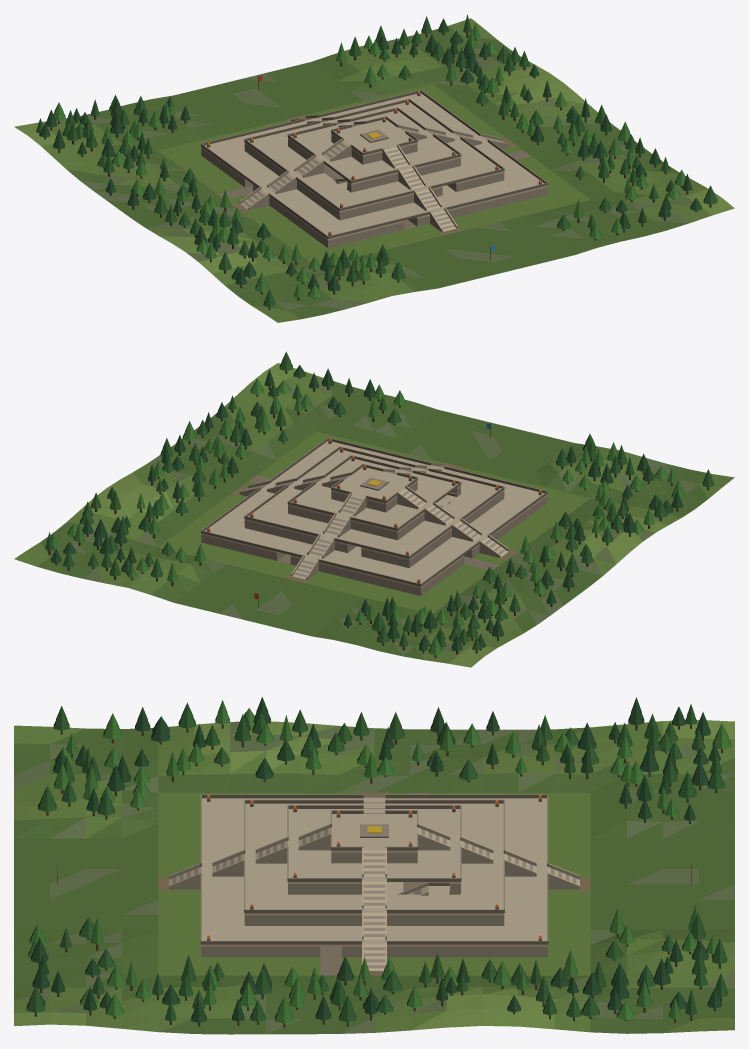
The model's file is battle_ziggurat.glb.
3 renders of one model, top to bottom at view 1: azimuth 30°, elevation 25°; view 2: azimuth 150°, elevation 25°; view 3: azimuth 270°, elevation 25°, orthographic. The views are drawn at different scales.
Parts seen in each view (by area): view 1: Ziggurat; view 2: Ziggurat; view 3: Ziggurat.
Part boxes in pixels (x1,y1,x2,y2): Ziggurat: (14,14,734,322); Ziggurat: (14,351,734,667); Ziggurat: (14,697,734,1034).
Size of the model in its own units: 200 by 17.7 by 200.
